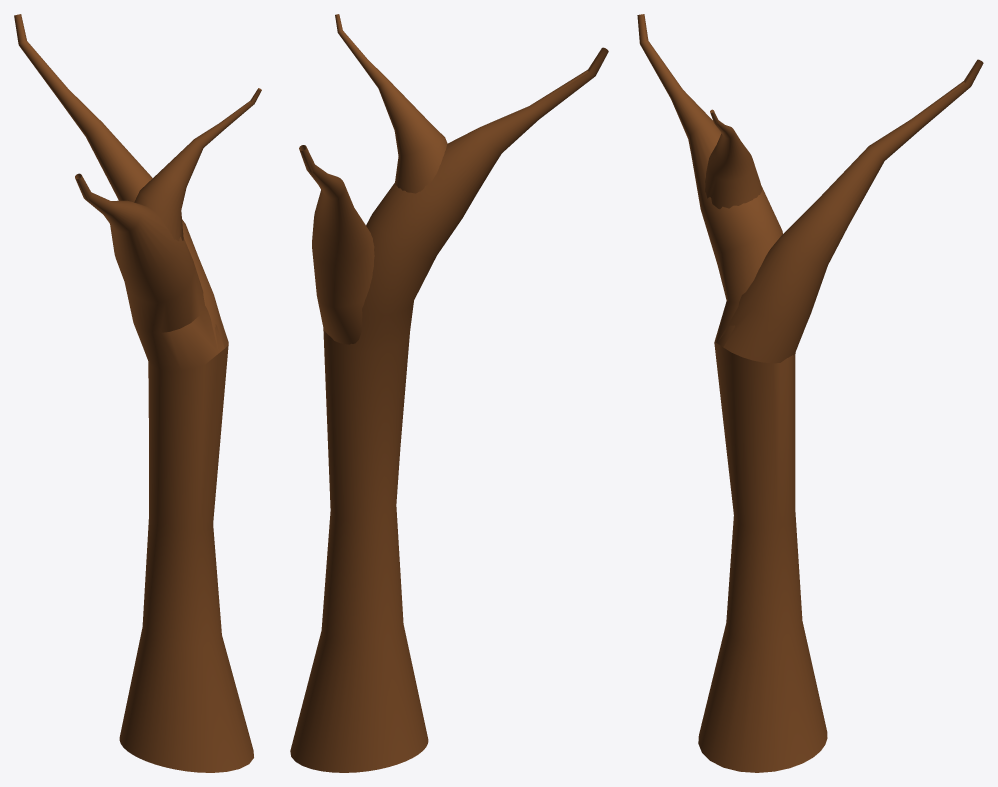
File: bare_tree.glb
3 renders of one model, left to right at view 1: azimuth 30°, elevation 25°; view 2: azimuth 150°, elevation 25°; view 3: azimuth 270°, elevation 25°, orthographic. The views are drawn at different scales.
Parts seen in each view (by area): view 1: bare_tree; view 2: bare_tree; view 3: bare_tree.
Part boxes in pixels (x1=…): bare_tree: x1=14, y1=14, x2=261, y2=772; bare_tree: x1=290, y1=14, x2=608, y2=772; bare_tree: x1=637, y1=14, x2=983, y2=772.
Size of the model in its own units: 1.49 by 4.14 by 1.97.
